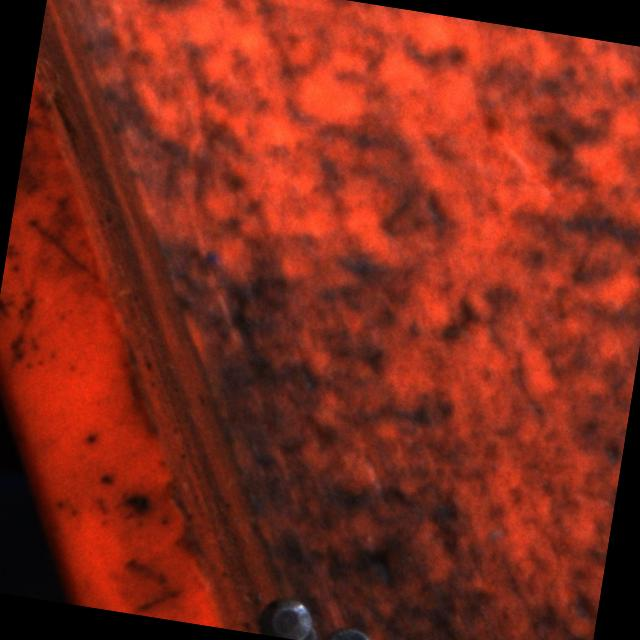tool: (265, 592, 318, 640), (324, 621, 377, 640)
